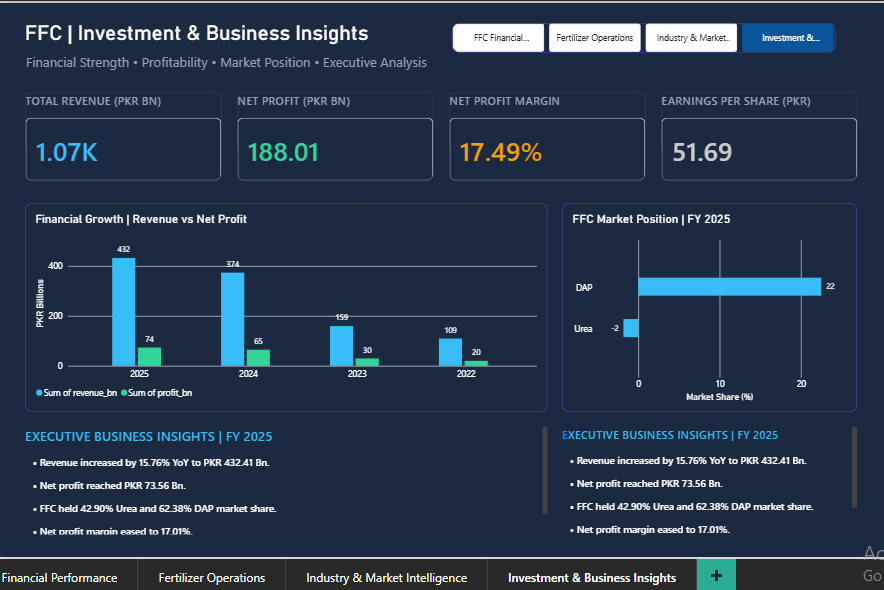

What the dashboard file says about the page in this screenshot:
{"tool":"powerbi","page":{"name":"Investment & Business Insights","canvas":[1440,900],"ordinal":3},"visuals":[{"type":"textbox","title":"FFC | Investment & Business Insights","box":[40,30,1000,48],"z":0},{"type":"textbox","box":[42,82,1050,30],"z":1},{"type":"cardVisual","title":"TOTAL REVENUE (PKR BN)","fields":{"Data":["public vw_ffc_financial_performance.Total Revenue (Bn)"]},"box":[40,145,320,145],"z":2},{"type":"cardVisual","title":"NET PROFIT (PKR BN)","fields":{"Data":["public vw_ffc_financial_performance.Total Net Profit (Bn)"]},"box":[385,145,320,145],"z":3},{"type":"cardVisual","title":"NET PROFIT MARGIN","fields":{"Data":["public vw_ffc_financial_performance.Net Profit Margin KPI"]},"box":[730,145,320,145],"z":4},{"type":"cardVisual","title":"EARNINGS PER SHARE (PKR)","fields":{"Data":["public vw_ffc_financial_performance.EPS KPI"]},"box":[1075,145,320,145],"z":5},{"type":"clusteredColumnChart","title":"Financial Growth | Revenue vs Net Profit","fields":{"Category":["public vw_ffc_financial_performance.fiscal_year"],"Y":["Sum(public vw_ffc_financial_performance.revenue_bn)","Sum(public vw_ffc_financial_performance.profit_bn)"]},"box":[40,325,850,340],"z":6},{"type":"clusteredBarChart","title":"FFC Market Position | FY 2025","fields":{"Category":["public vw_ffc_market_share.product"],"Y":["Sum(public vw_ffc_market_share.share_change_pp)"]},"box":[915,325,480,340],"z":7},{"type":"textbox","box":[40,690,850,175],"z":8},{"type":"textbox","box":[915,690,480,175],"z":9},{"type":"pageNavigator","box":[736,32,624,48],"z":10}]}

Visuals, with their boxes on the page's 1440x900 design canvas (x1, y1, x2, y2). These are canvas units, not pixel positions in the 884x590 screenshot, which may show the page scaled, cropped or inside an application window:
"FFC | Investment & Business Insights" textbox: select_region(40, 30, 1040, 78)
textbox: select_region(42, 82, 1092, 112)
"TOTAL REVENUE (PKR BN)" cardVisual: select_region(40, 145, 360, 290)
"NET PROFIT (PKR BN)" cardVisual: select_region(385, 145, 705, 290)
"NET PROFIT MARGIN" cardVisual: select_region(730, 145, 1050, 290)
"EARNINGS PER SHARE (PKR)" cardVisual: select_region(1075, 145, 1395, 290)
"Financial Growth | Revenue vs Net Profit" clusteredColumnChart: select_region(40, 325, 890, 665)
"FFC Market Position | FY 2025" clusteredBarChart: select_region(915, 325, 1395, 665)
textbox: select_region(40, 690, 890, 865)
textbox: select_region(915, 690, 1395, 865)
pageNavigator: select_region(736, 32, 1360, 80)
